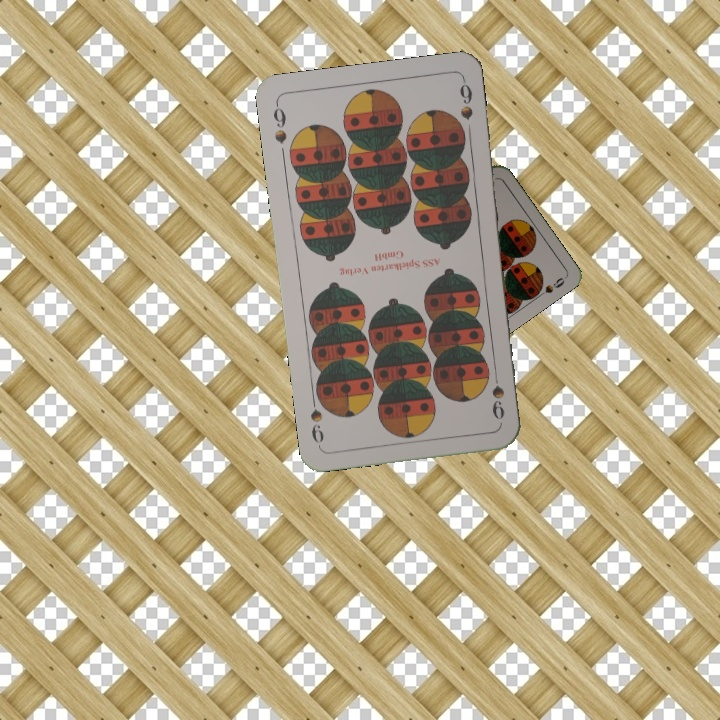S9: (488, 364, 507, 423), (269, 99, 290, 146)
